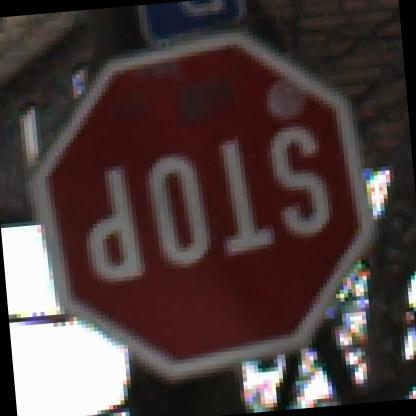stop: (19, 30, 384, 372)
